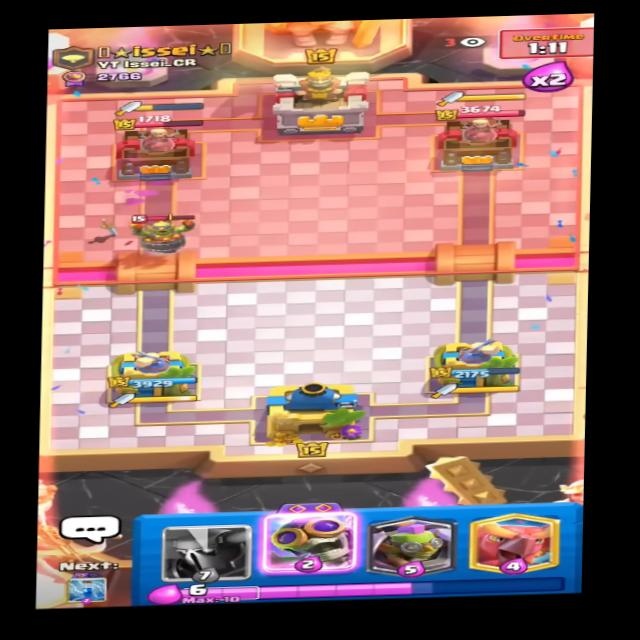goblin-demolisher: (126, 209, 204, 258)
